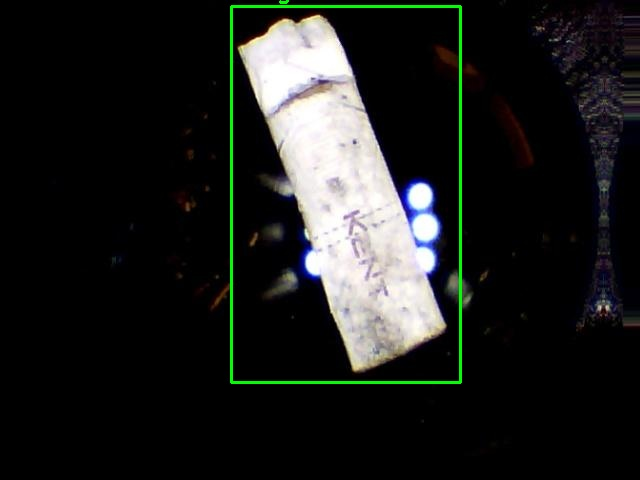megot: (231, 6, 460, 382)
